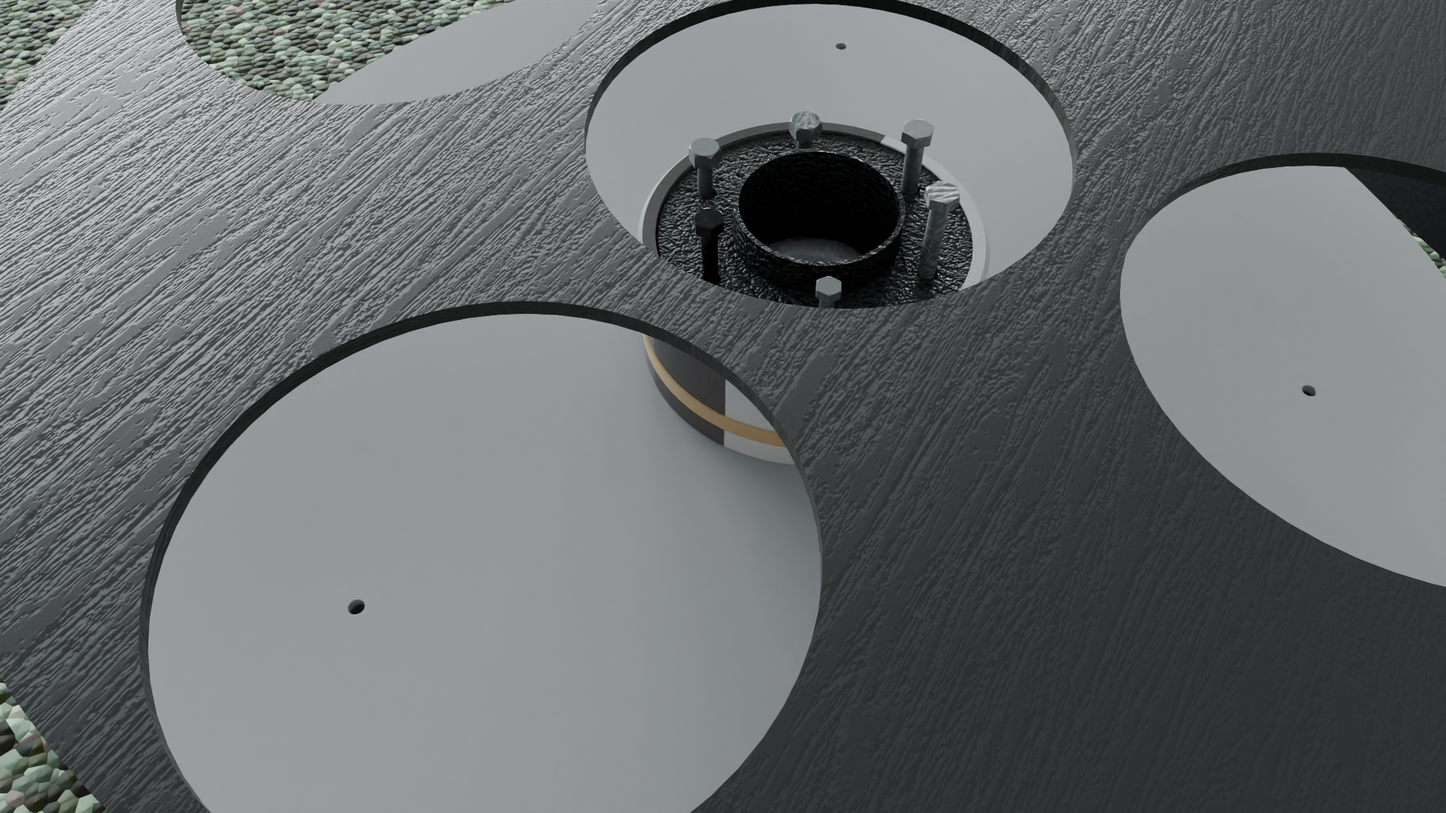bolt: (926, 181, 960, 205), (688, 138, 721, 160), (789, 111, 822, 132), (694, 208, 724, 230), (902, 119, 934, 139), (816, 276, 841, 297)
